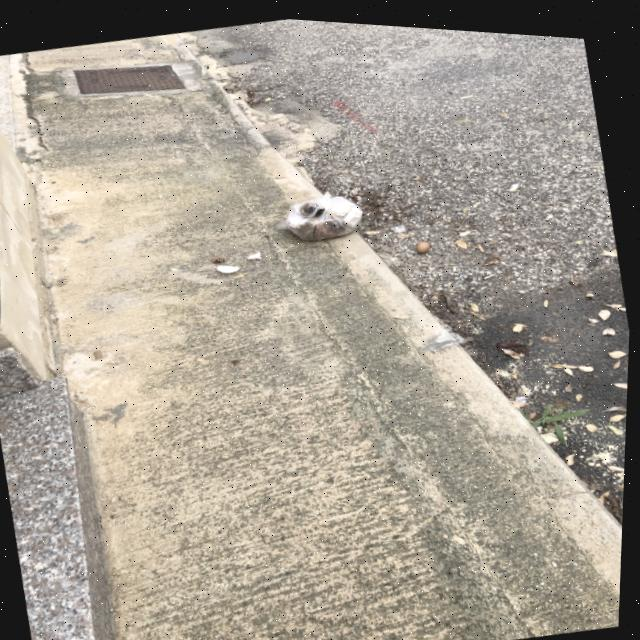Organic Waste -White Bag-: (273, 179, 370, 246)
